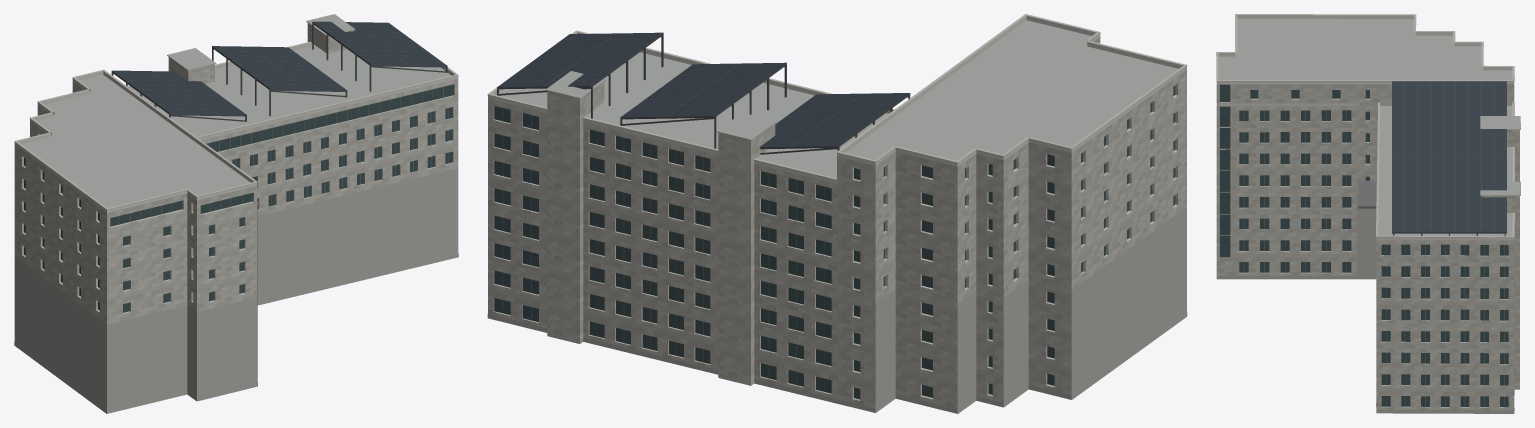
The picture shows the model from 3 angles, left to right: view 1: azimuth 30°, elevation 25°; view 2: azimuth 150°, elevation 25°; view 3: azimuth 270°, elevation 25°; orthographic projection. The views are drawn at different scales.
Visible parts, largest first — view 1: engineering2__wall, engineering2__base, engineering2__roof, engineering2__pvPanel, engineering2__glass, engineering2__parapet, engineering2__pvFrame, engineering2__trim, engineering2__frame; view 2: engineering2__wall, engineering2__roof, engineering2__base, engineering2__glass, engineering2__pvPanel, engineering2__parapet, engineering2__pvFrame, engineering2__trim, engineering2__frame; view 3: engineering2__wall, engineering2__roof, engineering2__pvPanel, engineering2__glass, engineering2__parapet, engineering2__trim, engineering2__base, engineering2__pvFrame, engineering2__frame, engineering2__canopy.
Part boxes in pixels (x1=…): engineering2__wall: x1=14, y1=23, x2=458, y2=382; engineering2__base: x1=14, y1=168, x2=458, y2=413; engineering2__roof: x1=21, y1=14, x2=450, y2=207; engineering2__pvPanel: x1=112, y1=21, x2=447, y2=114; engineering2__glass: x1=24, y1=84, x2=453, y2=312; engineering2__parapet: x1=14, y1=42, x2=458, y2=212; engineering2__pvFrame: x1=111, y1=22, x2=447, y2=121; engineering2__trim: x1=14, y1=21, x2=458, y2=209; engineering2__frame: x1=119, y1=87, x2=448, y2=224; engineering2__wall: x1=488, y1=37, x2=1186, y2=409; engineering2__roof: x1=496, y1=20, x2=1178, y2=178; engineering2__base: x1=487, y1=207, x2=1187, y2=413; engineering2__glass: x1=494, y1=85, x2=1175, y2=399; engineering2__pvPanel: x1=497, y1=32, x2=909, y2=147; engineering2__parapet: x1=488, y1=15, x2=1186, y2=183; engineering2__pvFrame: x1=497, y1=33, x2=910, y2=154; engineering2__trim: x1=487, y1=14, x2=1187, y2=180; engineering2__frame: x1=502, y1=108, x2=824, y2=391; engineering2__wall: x1=1216, y1=84, x2=1519, y2=410; engineering2__roof: x1=1218, y1=18, x2=1520, y2=236; engineering2__pvPanel: x1=1392, y1=81, x2=1506, y2=231; engineering2__glass: x1=1220, y1=84, x2=1508, y2=407; engineering2__parapet: x1=1216, y1=15, x2=1514, y2=240; engineering2__trim: x1=1216, y1=14, x2=1520, y2=237; engineering2__base: x1=1216, y1=192, x2=1514, y2=413; engineering2__pvFrame: x1=1392, y1=81, x2=1506, y2=236; engineering2__frame: x1=1220, y1=110, x2=1504, y2=407; engineering2__canopy: x1=1358, y1=180, x2=1376, y2=208.
Size of the model in its own units: 71.93 by 33.22 by 45.93.
11 materials, 1 textured.
